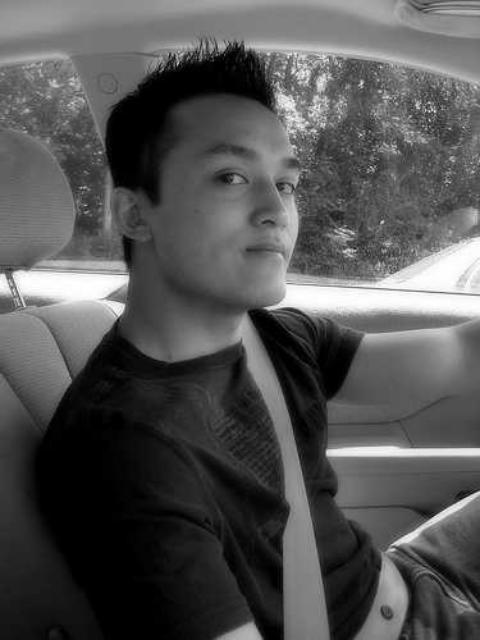SafeDriving: (204, 156, 256, 193), (266, 163, 305, 198)
Seatbelt: (228, 302, 338, 640)
